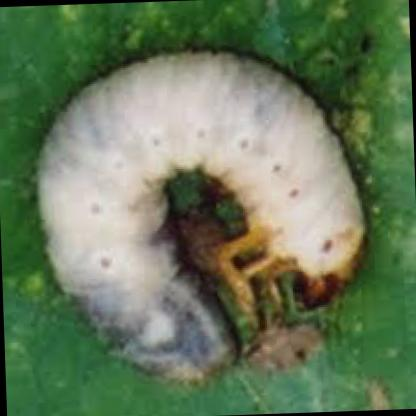root grubs: (39, 53, 369, 383)
